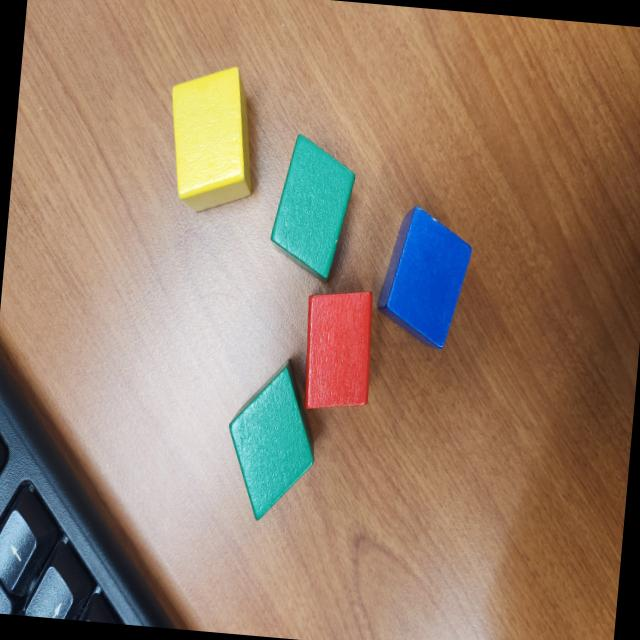blue: (373, 201, 477, 354)
green: (220, 352, 324, 526), (266, 130, 360, 286)
red: (298, 285, 379, 412)
yellow: (161, 62, 263, 218)
